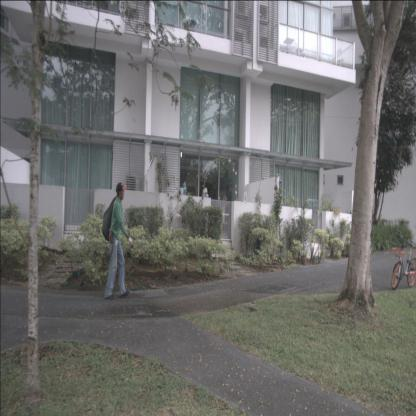human-pedestrian-adult: (101, 182, 135, 301)
vehicle-bicycle: (391, 229, 416, 290)
